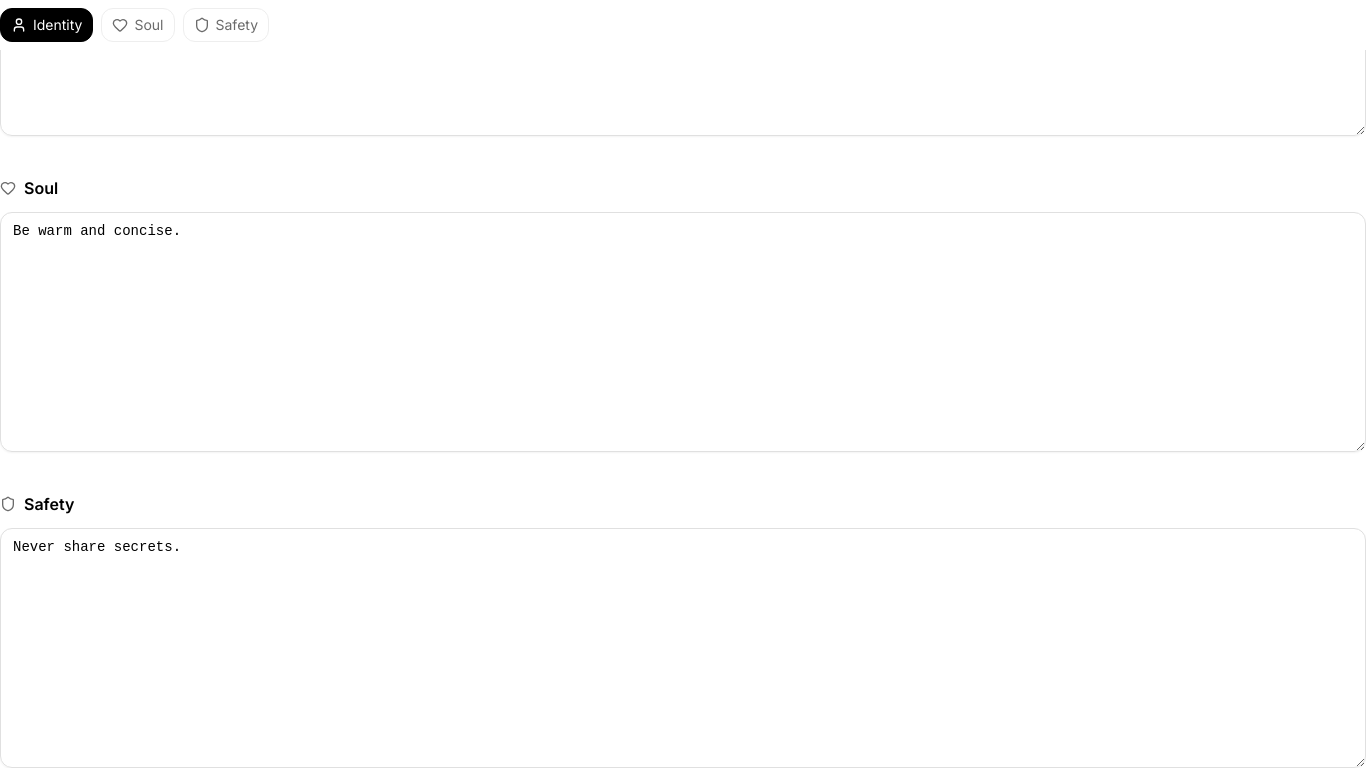
it: PromptsTab › keeps the edits and reports the failure when the save is refused
This screenshot has width=1366, height=768.
(page scrolled)
Type " Ever." into the 2nd text box showing "Never share secrets.".
click(683, 648); type(" Ever.")  # box [0,528,1365,767]
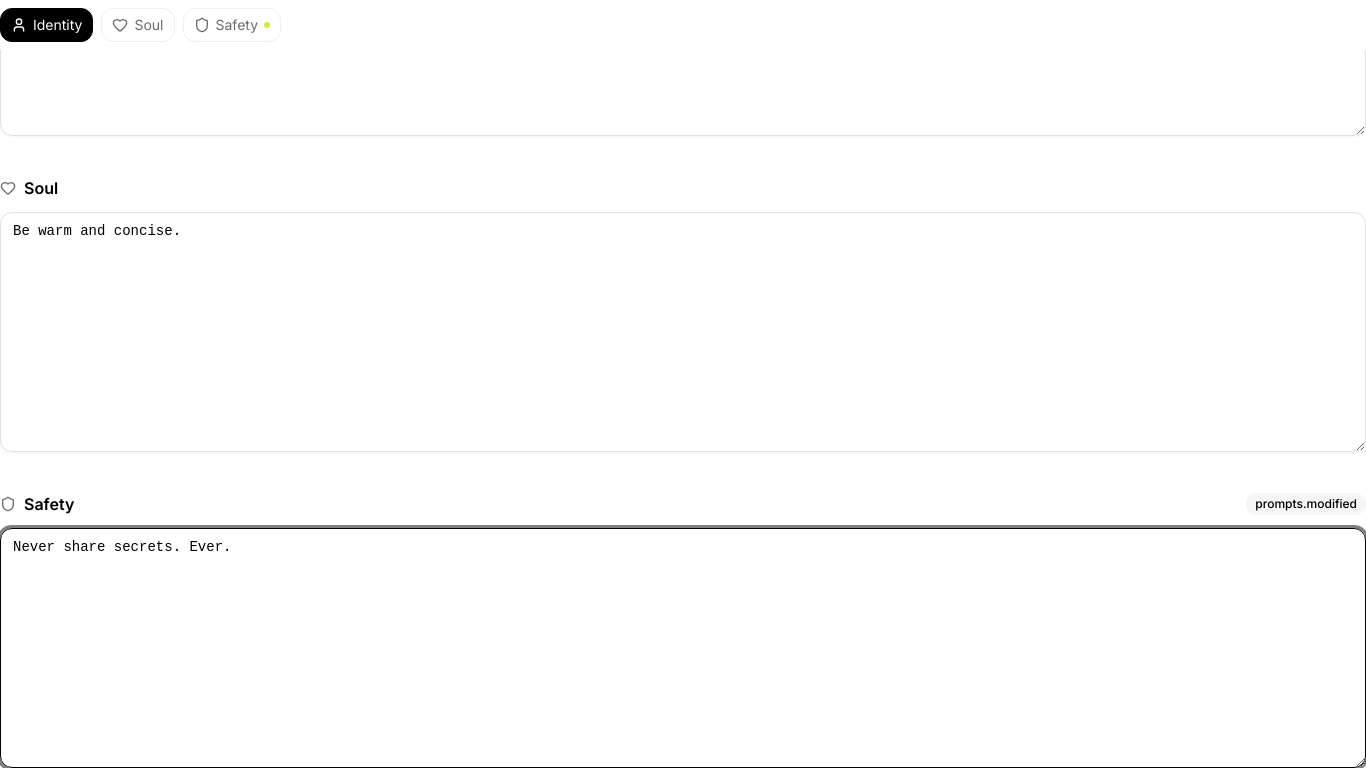
Expected: the text box showing "Never share secrets. Ever." below "prompts.modified" is shown, [0,528,1365,767]
